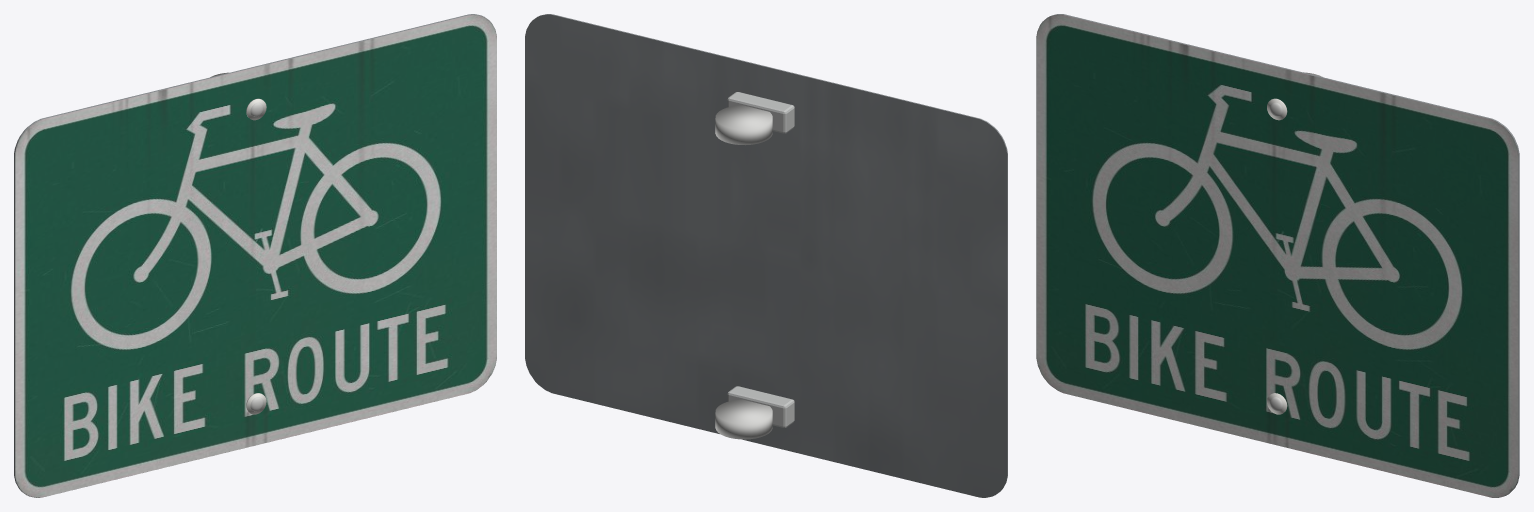
Rendered from bikeGuide-v1.glb.
3 renders of one model, left to right at view 1: azimuth 30°, elevation 25°; view 2: azimuth 150°, elevation 25°; view 3: azimuth 330°, elevation 25°, orthographic.
Visible parts, largest first — view 1: bikeGuide-v1; view 2: bikeGuide-v1; view 3: bikeGuide-v1.
Boxes of the visible parts, x1,y1,x2,y2 form: bikeGuide-v1: [14, 14, 496, 497]; bikeGuide-v1: [525, 14, 1007, 497]; bikeGuide-v1: [1036, 14, 1519, 497].
Bounding box in the file's own units: 0.6096 × 0.4572 × 0.0871.
1 material, 1 textured.
